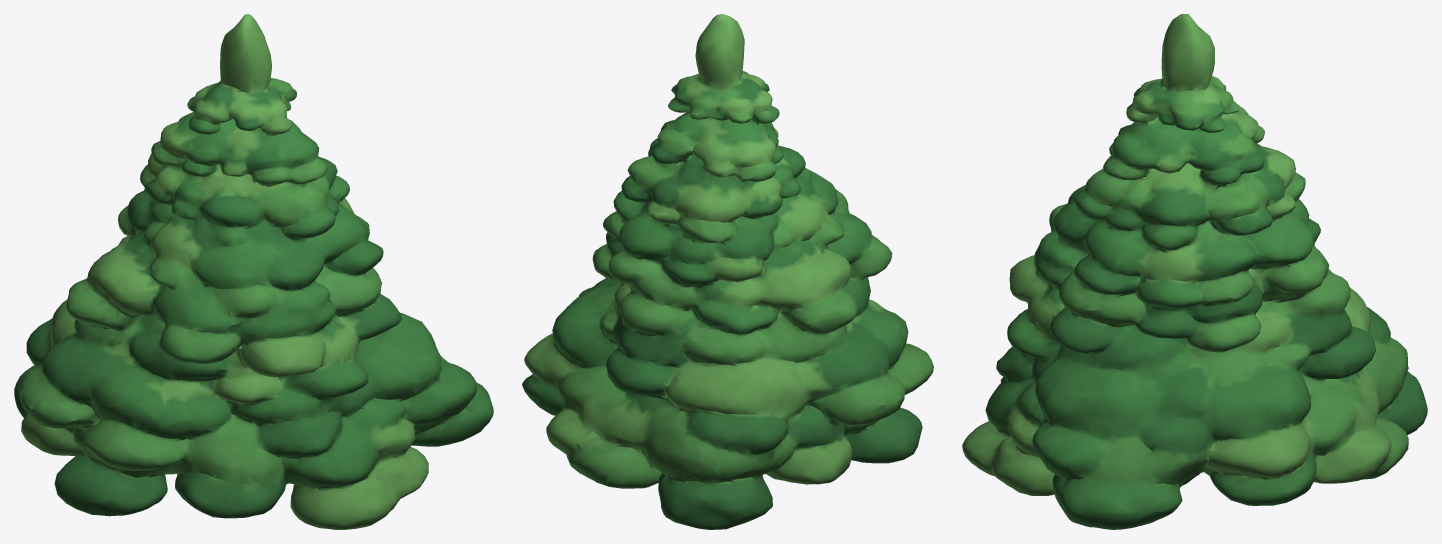
The model's file is pine_mature_medium_bushy.glb.
The picture shows the model from 3 angles, left to right: view 1: azimuth 30°, elevation 25°; view 2: azimuth 150°, elevation 25°; view 3: azimuth 270°, elevation 25°; orthographic projection. The views are drawn at different scales.
Parts seen in each view (by area): view 1: pine_mature_medium_bushy_LOD0; view 2: pine_mature_medium_bushy_LOD0; view 3: pine_mature_medium_bushy_LOD0.
Boxes of the visible parts, x1=… form: pine_mature_medium_bushy_LOD0: x1=14, y1=14, x2=493, y2=529; pine_mature_medium_bushy_LOD0: x1=522, y1=14, x2=933, y2=529; pine_mature_medium_bushy_LOD0: x1=962, y1=14, x2=1427, y2=529.
Size of what is drawn, in the model's own units: 5.15 by 5.55 by 5.09.
